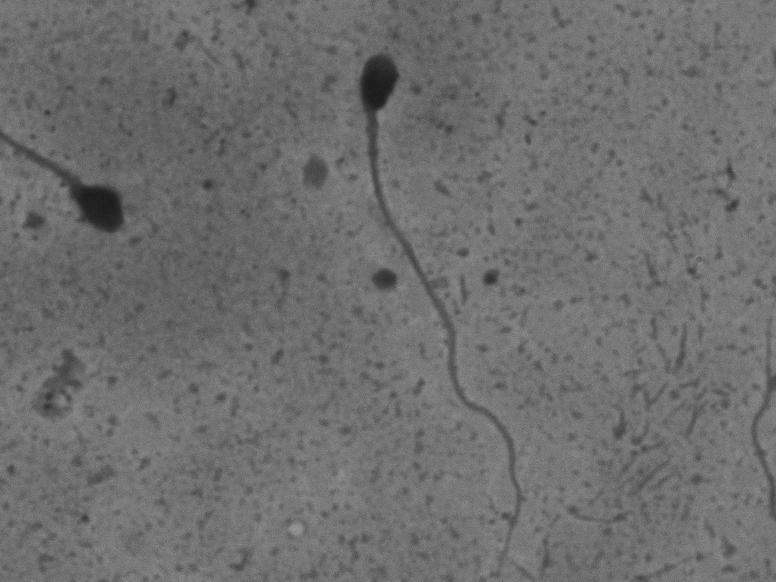Abnormal: (20, 85, 149, 277)
Normal: (327, 40, 532, 545)
